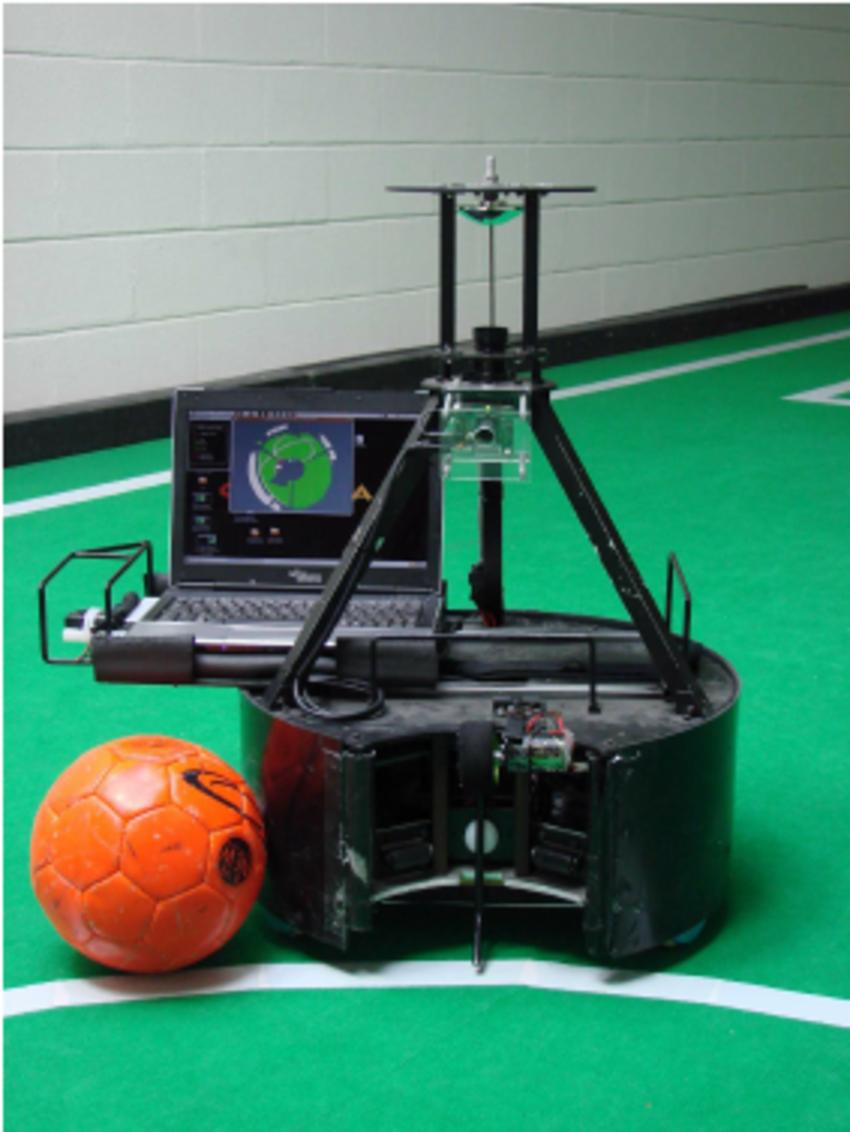robot: (237, 182, 743, 975)
